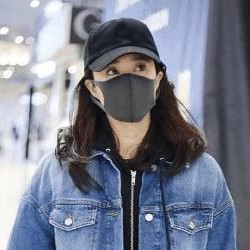mask: (91, 78, 161, 123)
